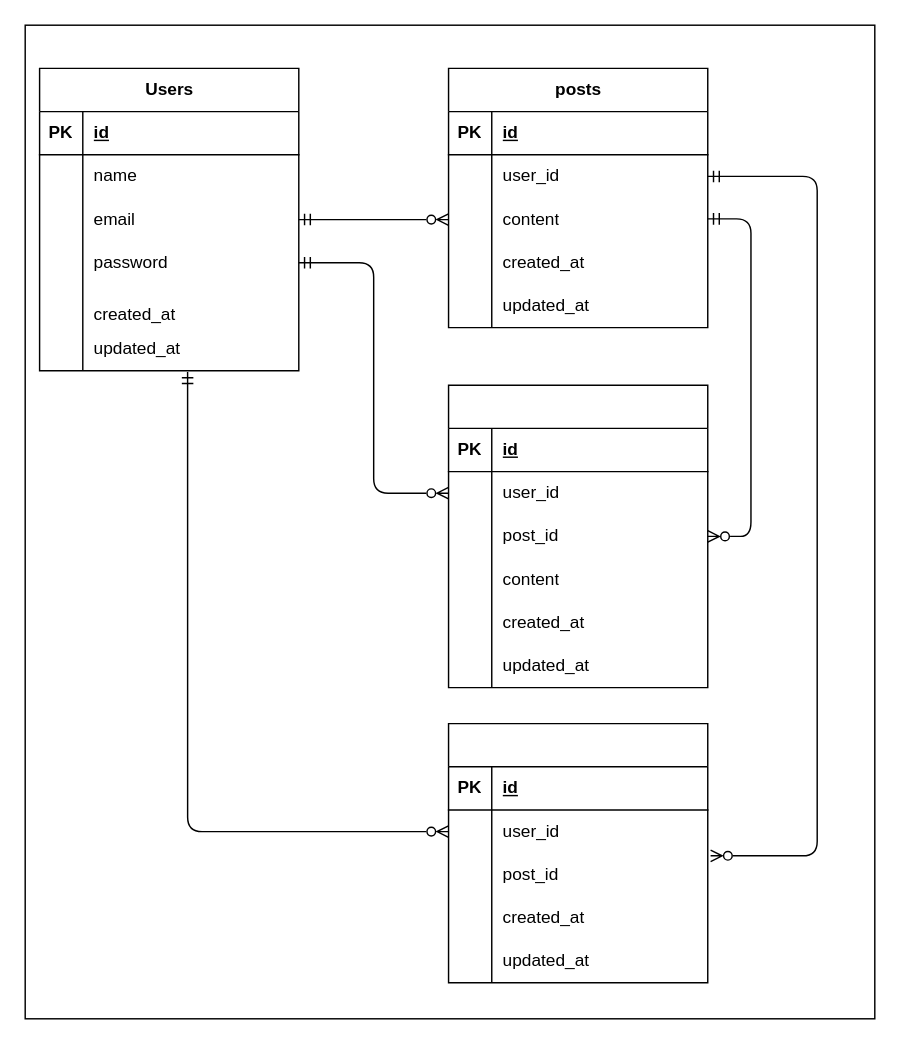
Some shapes in this 900 by 1044 pixel diagram are drawn without their labels. Here are the shapes that lost their labels. From the top down, the box of each, then its label:
(447, 384, 708, 688): comments
(447, 722, 708, 983): likes
